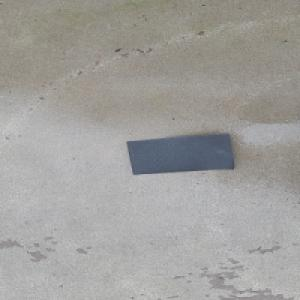PaintChip: (126, 133, 234, 175)
